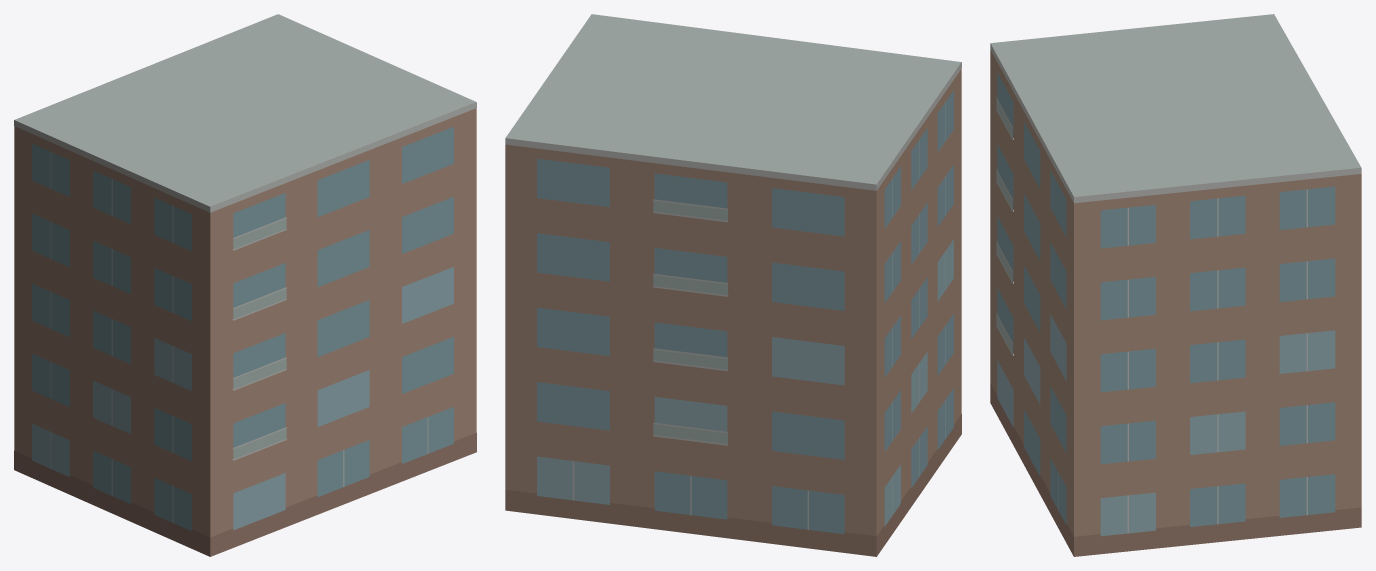
The model's file is survey-upis-32695273.glb.
3 renders of one model, left to right at view 1: azimuth 30°, elevation 25°; view 2: azimuth 150°, elevation 25°; view 3: azimuth 270°, elevation 25°, orthographic. The views are drawn at different scales.
Parts seen in each view (by area): view 1: survey-upis-32695273.tmp; view 2: survey-upis-32695273.tmp; view 3: survey-upis-32695273.tmp.
Boxes of the visible parts, x1,y1,x2,y2 form: survey-upis-32695273.tmp: (14,14,476,556); survey-upis-32695273.tmp: (505,14,961,556); survey-upis-32695273.tmp: (990,14,1361,556).
Bounding box in the file's own units: 15.74 × 14.4 × 13.48.
